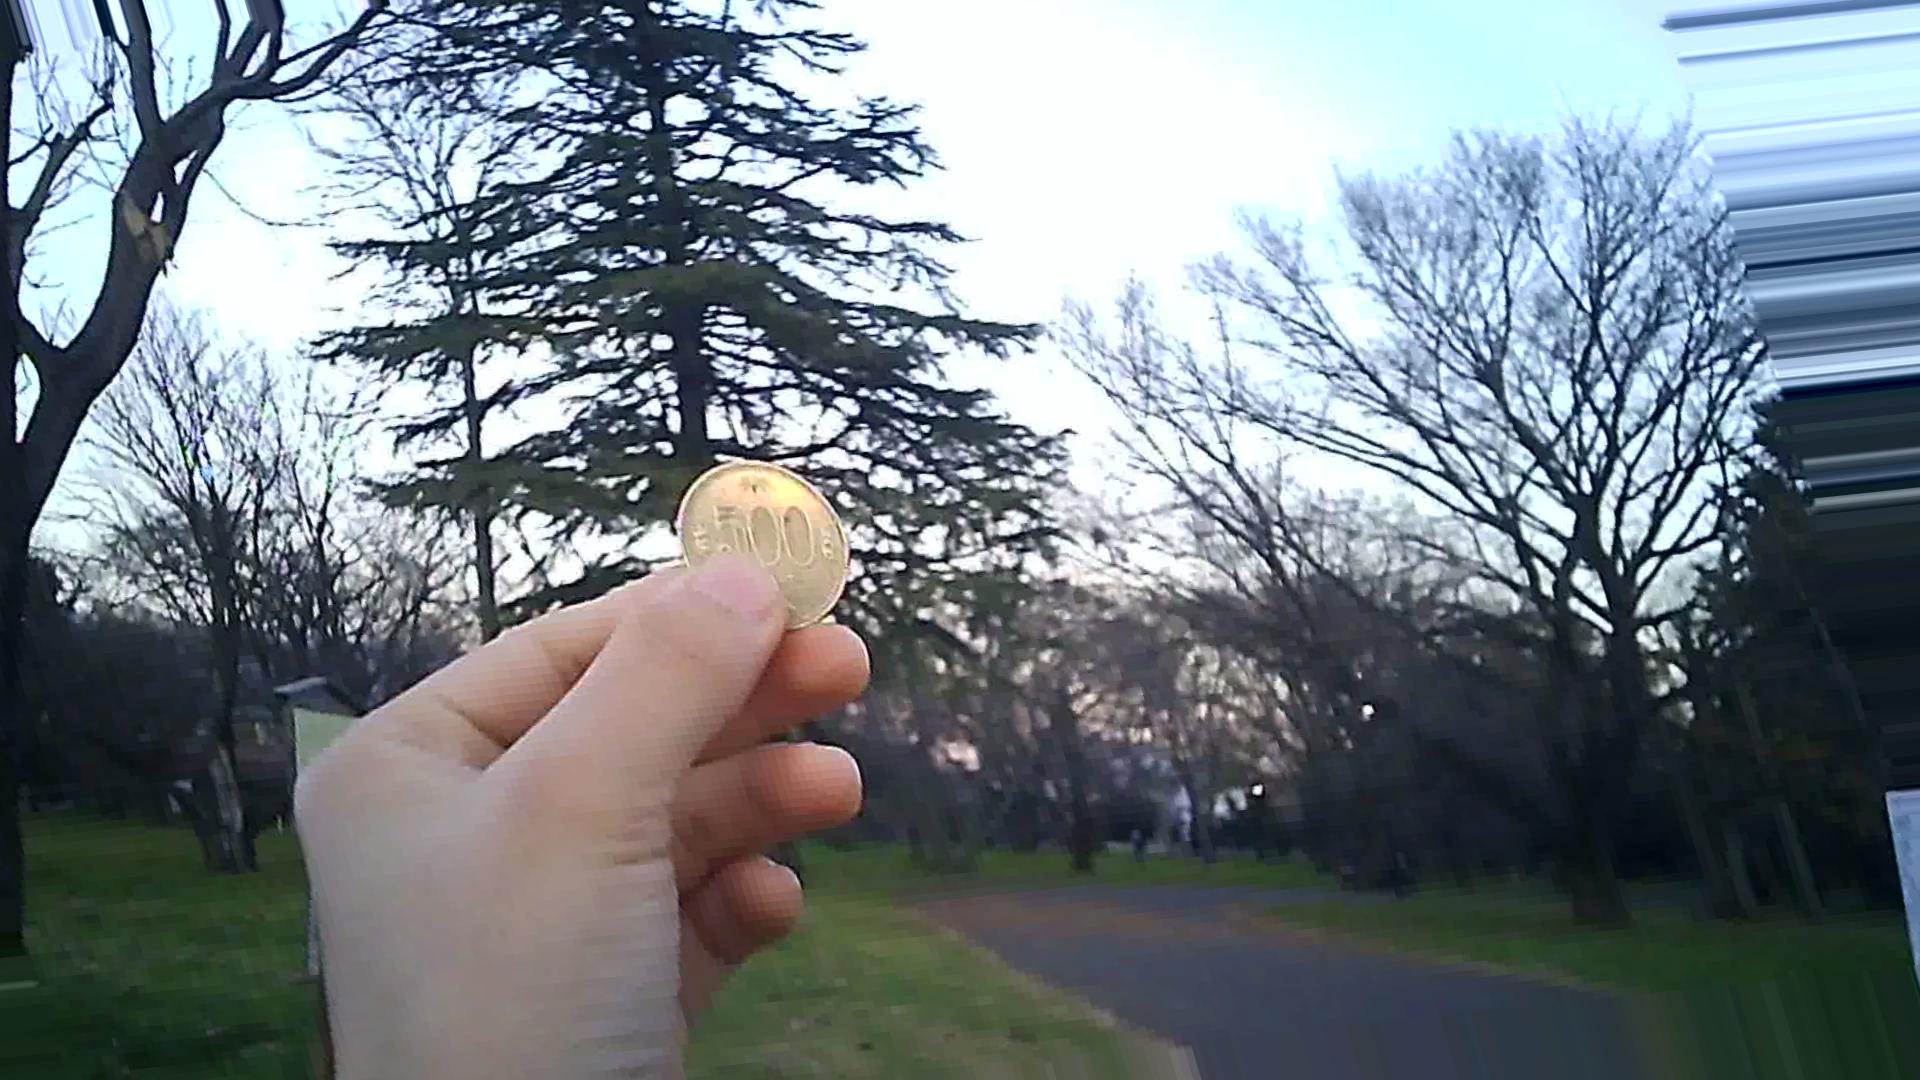500 Yen: (675, 452, 865, 641)
